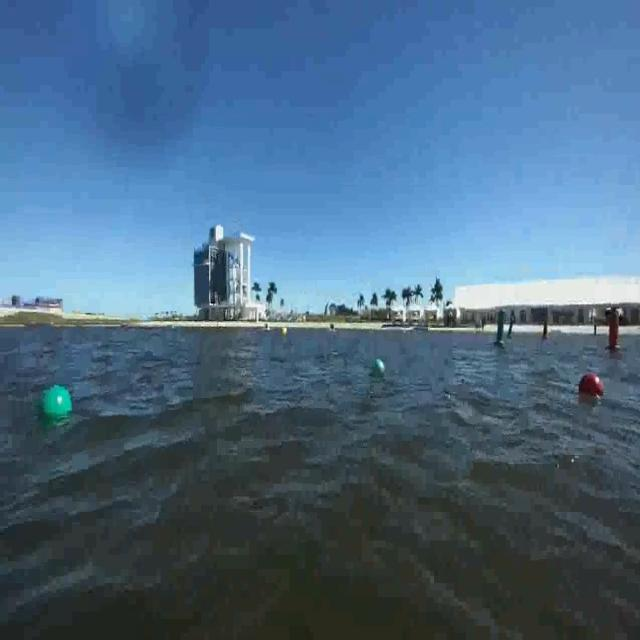green-buoy: (41, 387, 72, 424), (370, 360, 386, 382)
green-column-buoy: (493, 311, 507, 350)
red-buoy: (578, 374, 604, 404)
red-column-buoy: (608, 316, 622, 354)
yellow-buoy: (281, 325, 288, 337)
